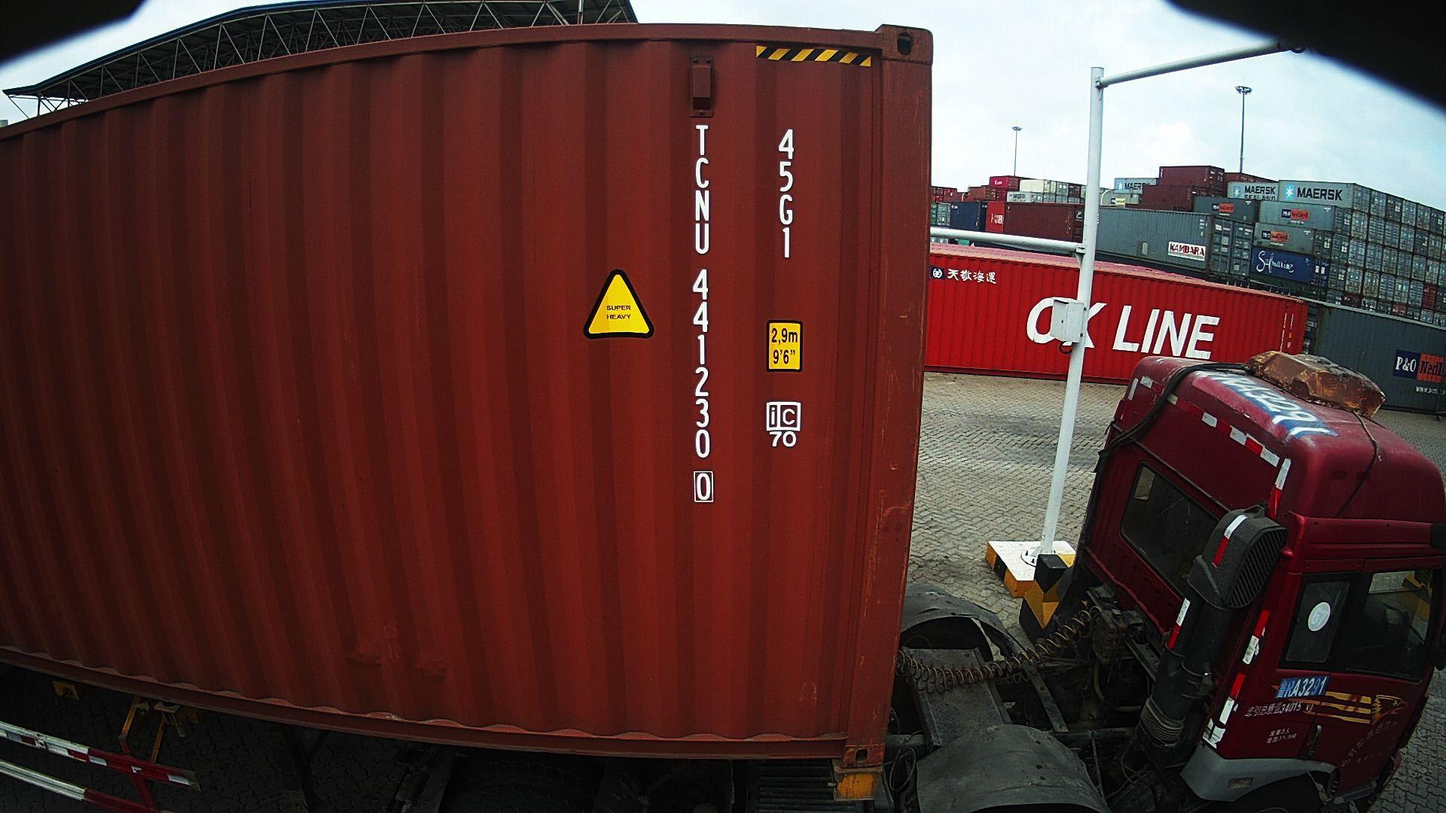container-numbers: (687, 119, 719, 508), (775, 125, 801, 263)
